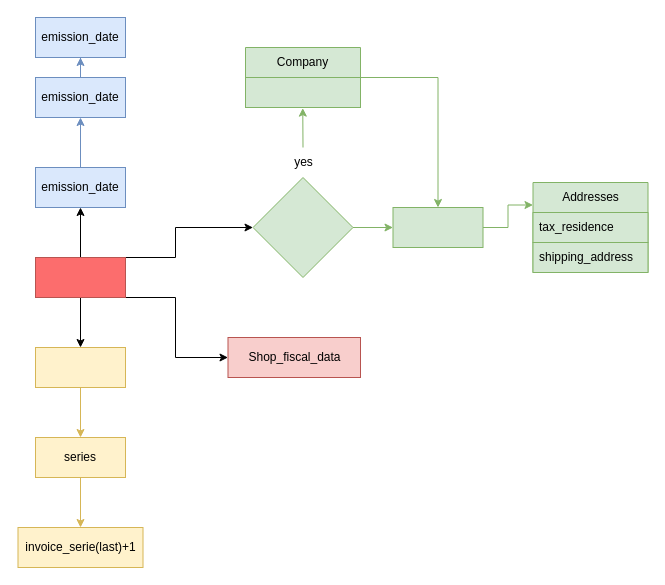
The diagram is 665 pixels wide and 585 high, and some of its shapes have lost their labels. The shapes that lost their labels are listed below. From the top down, each one's centre as x and y in pixels, then its label:
At point (302, 92): "NIF/CIF".
At point (302, 227): "Company_id ?".
At point (437, 227): "Customer Account".
At point (80, 277): "invoice".
At point (80, 367): "invoice_code".
